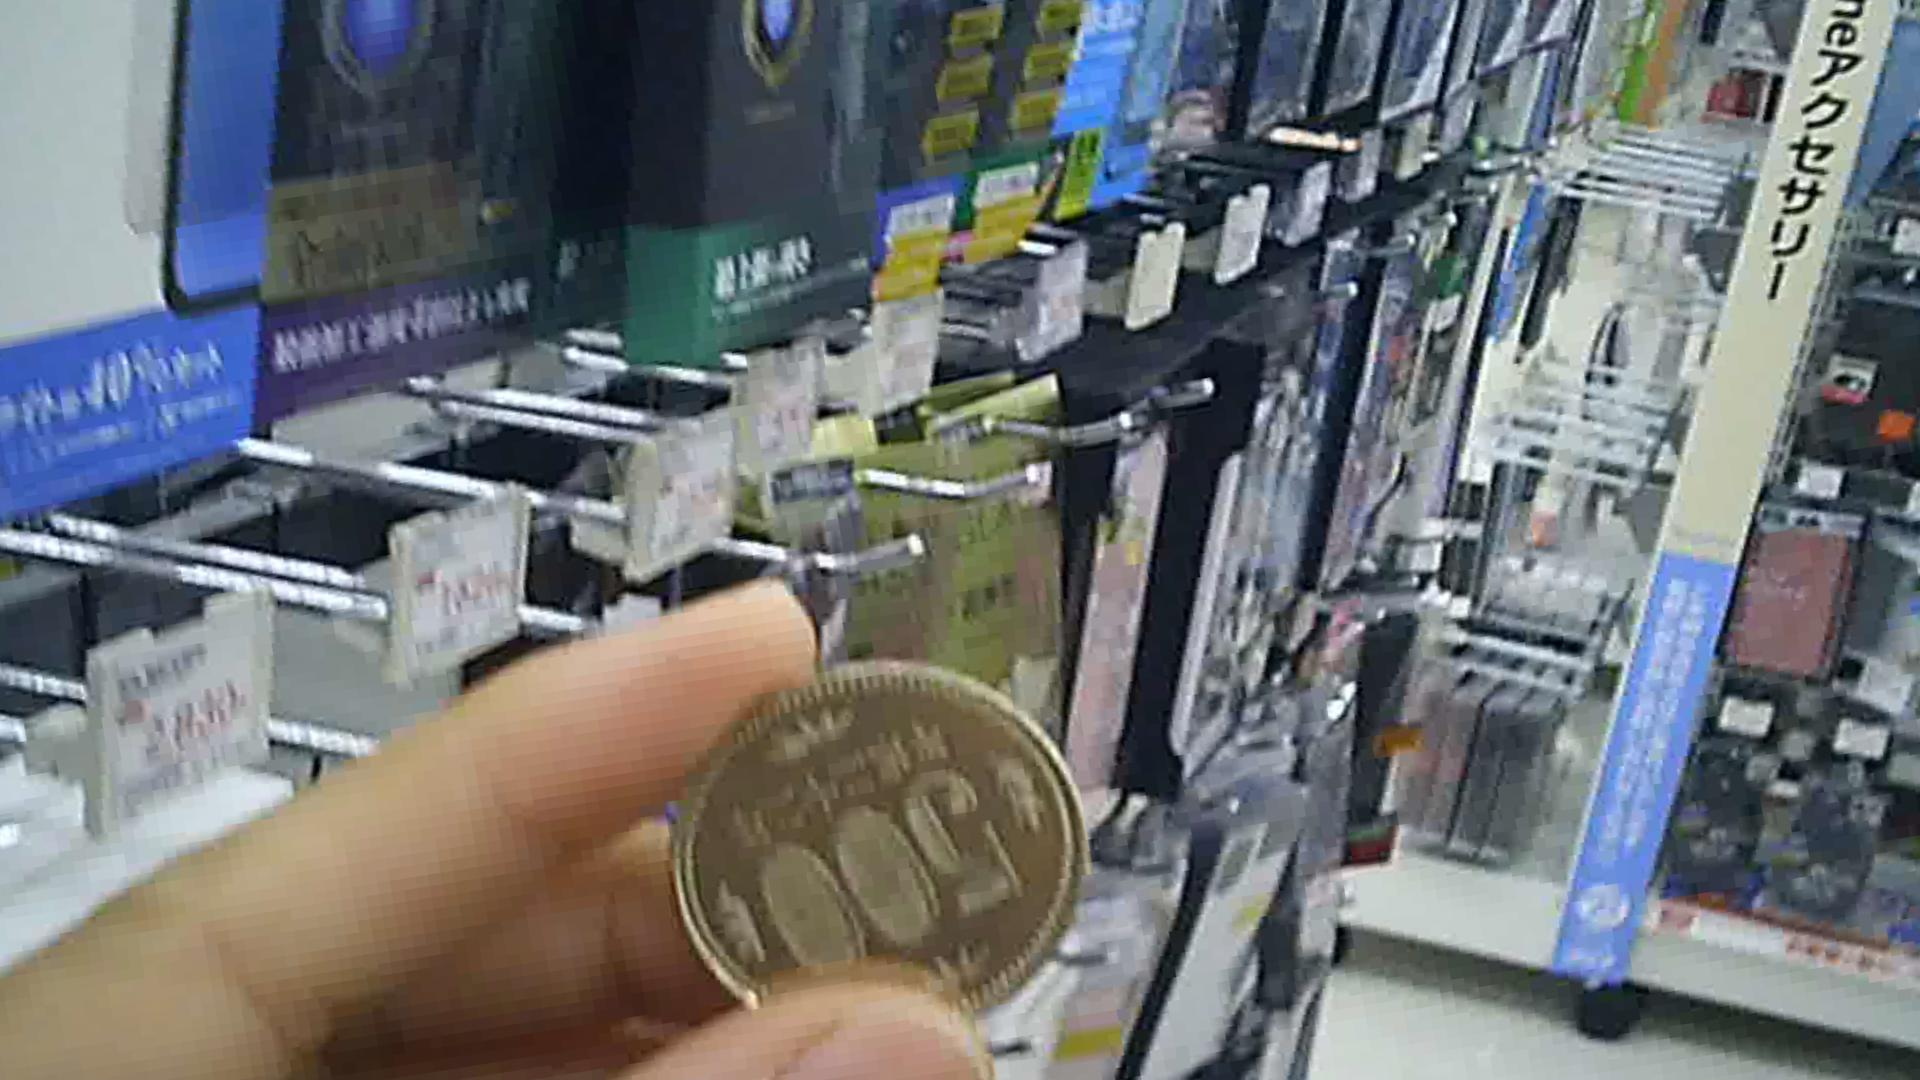500 Yen: (651, 653, 1096, 1000)
